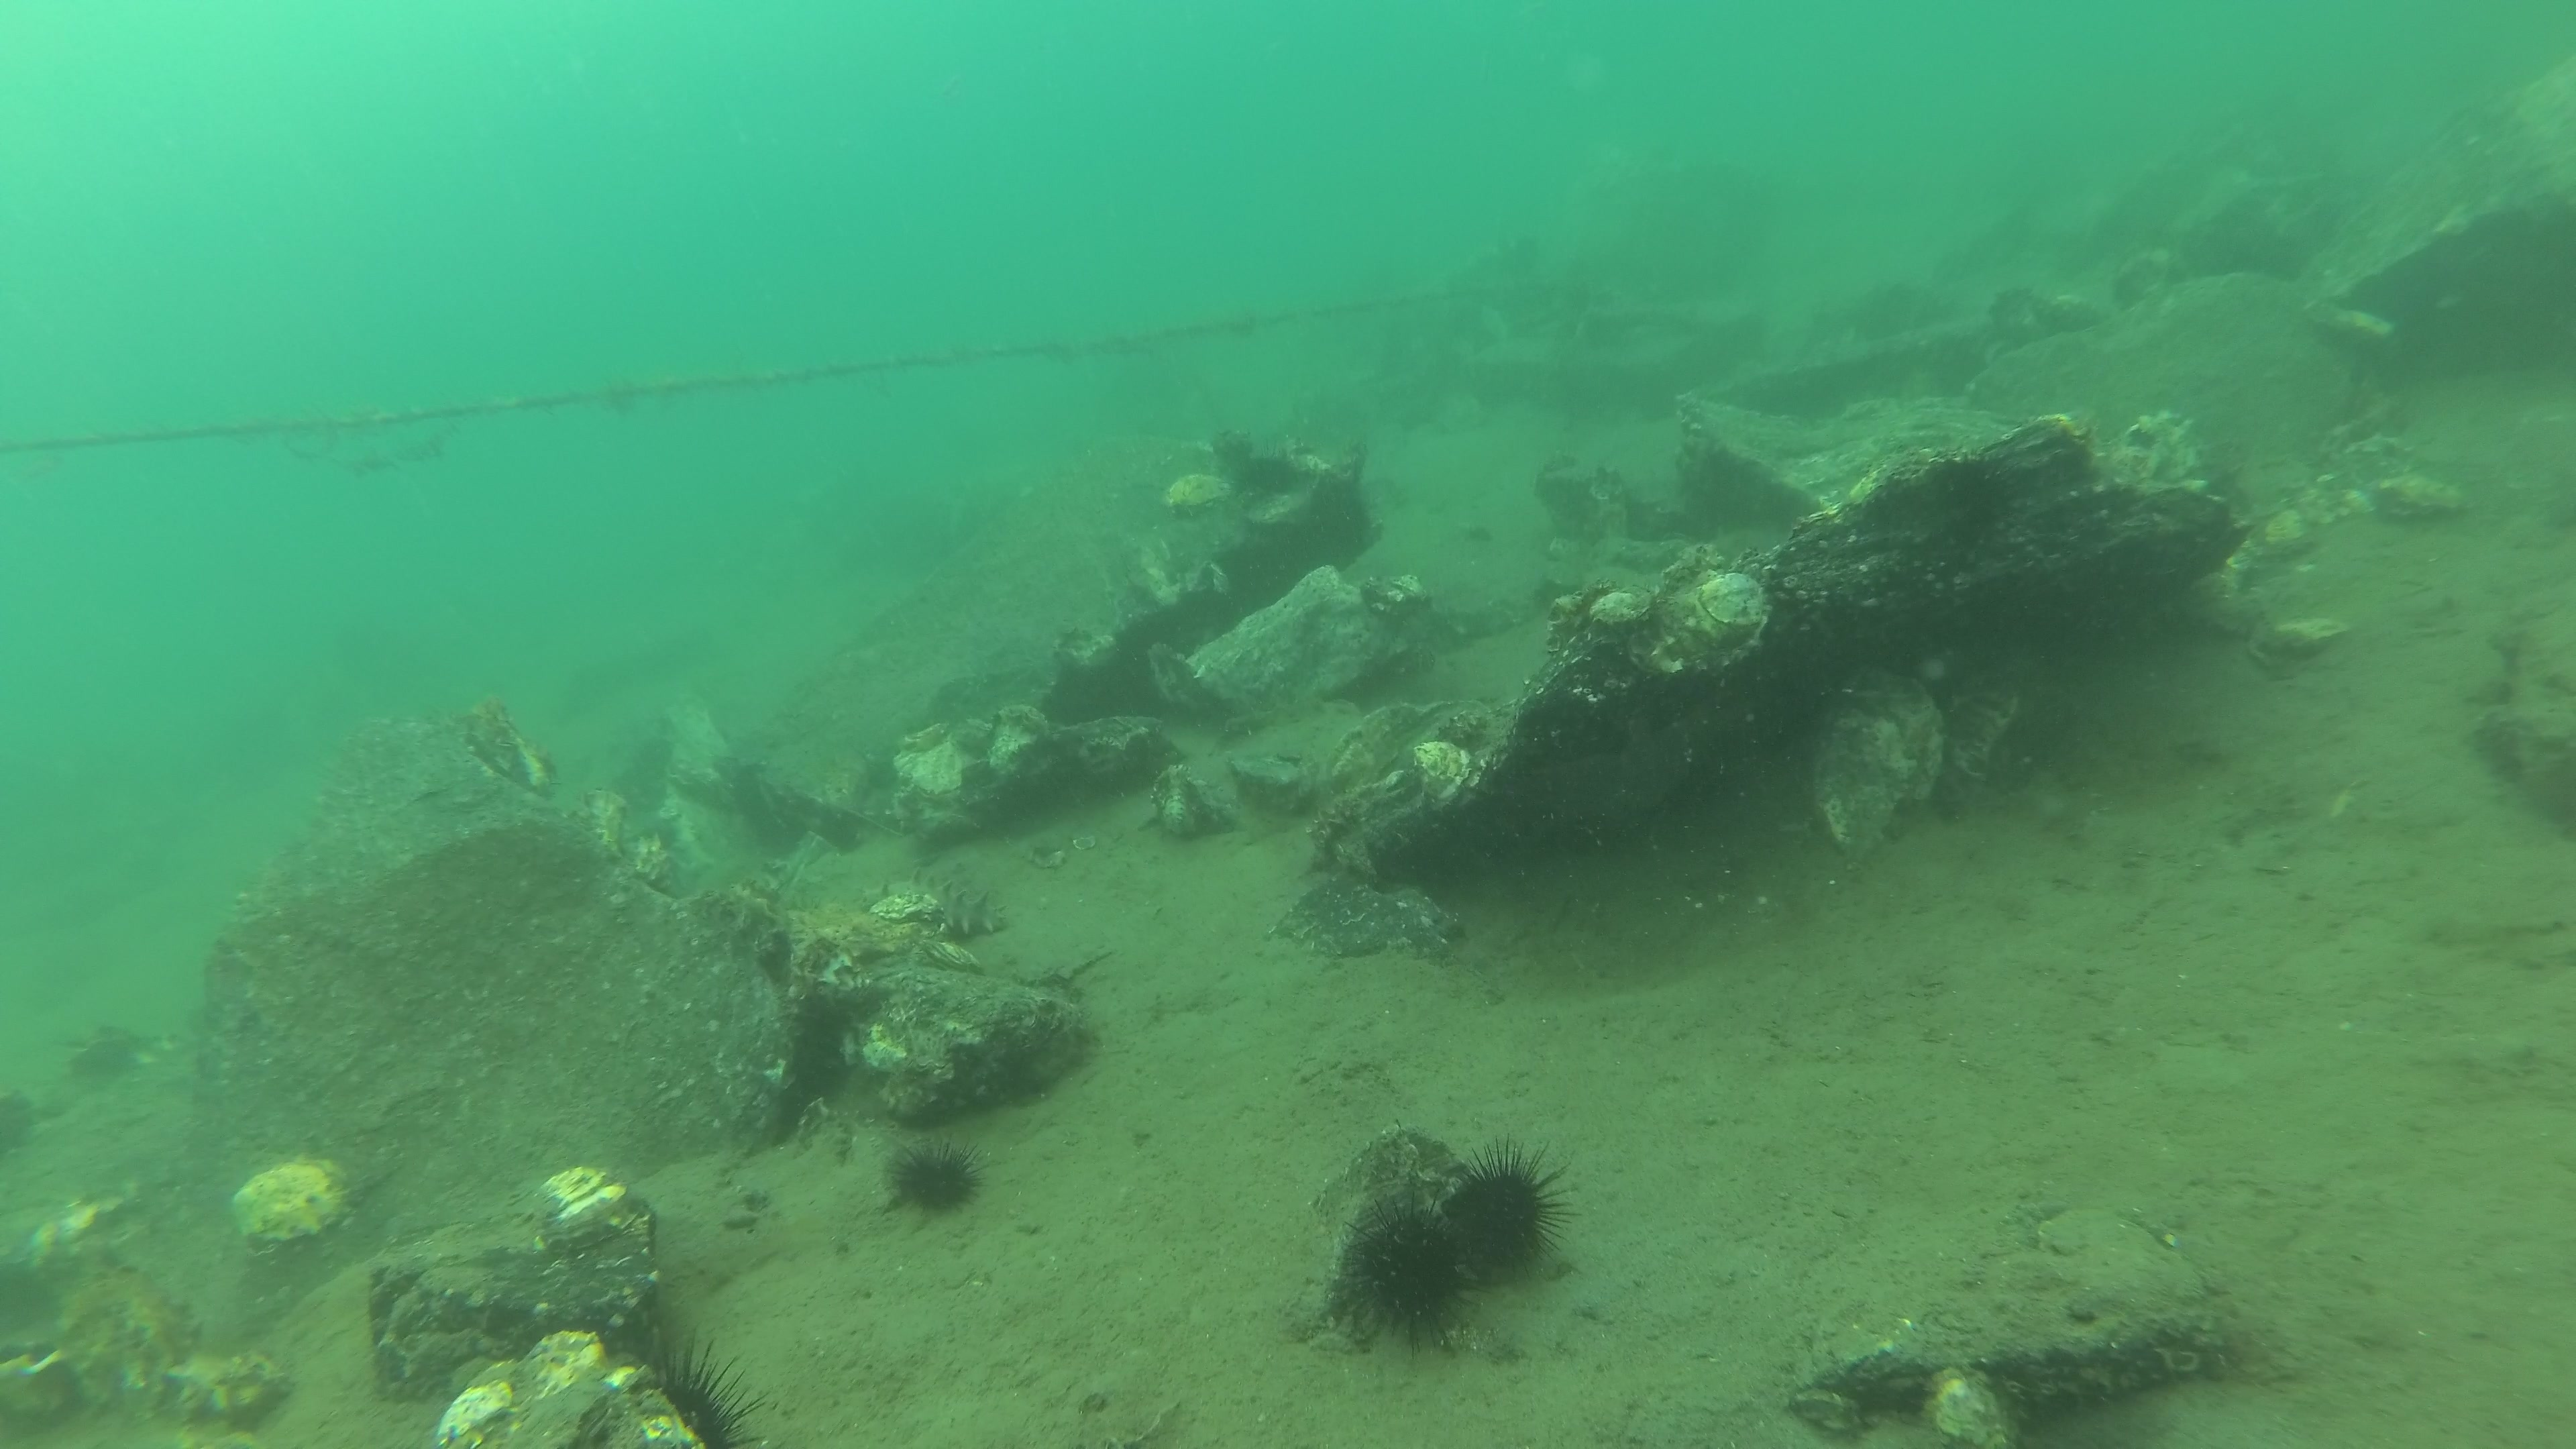echinus: (1338, 1191, 1484, 1361), (1444, 1136, 1580, 1279), (644, 1332, 770, 1449), (881, 1138, 991, 1215), (1936, 446, 2013, 545), (1223, 439, 1302, 497)
holothurian: (855, 863, 1010, 936)
starfish: (1553, 713, 1697, 824)
